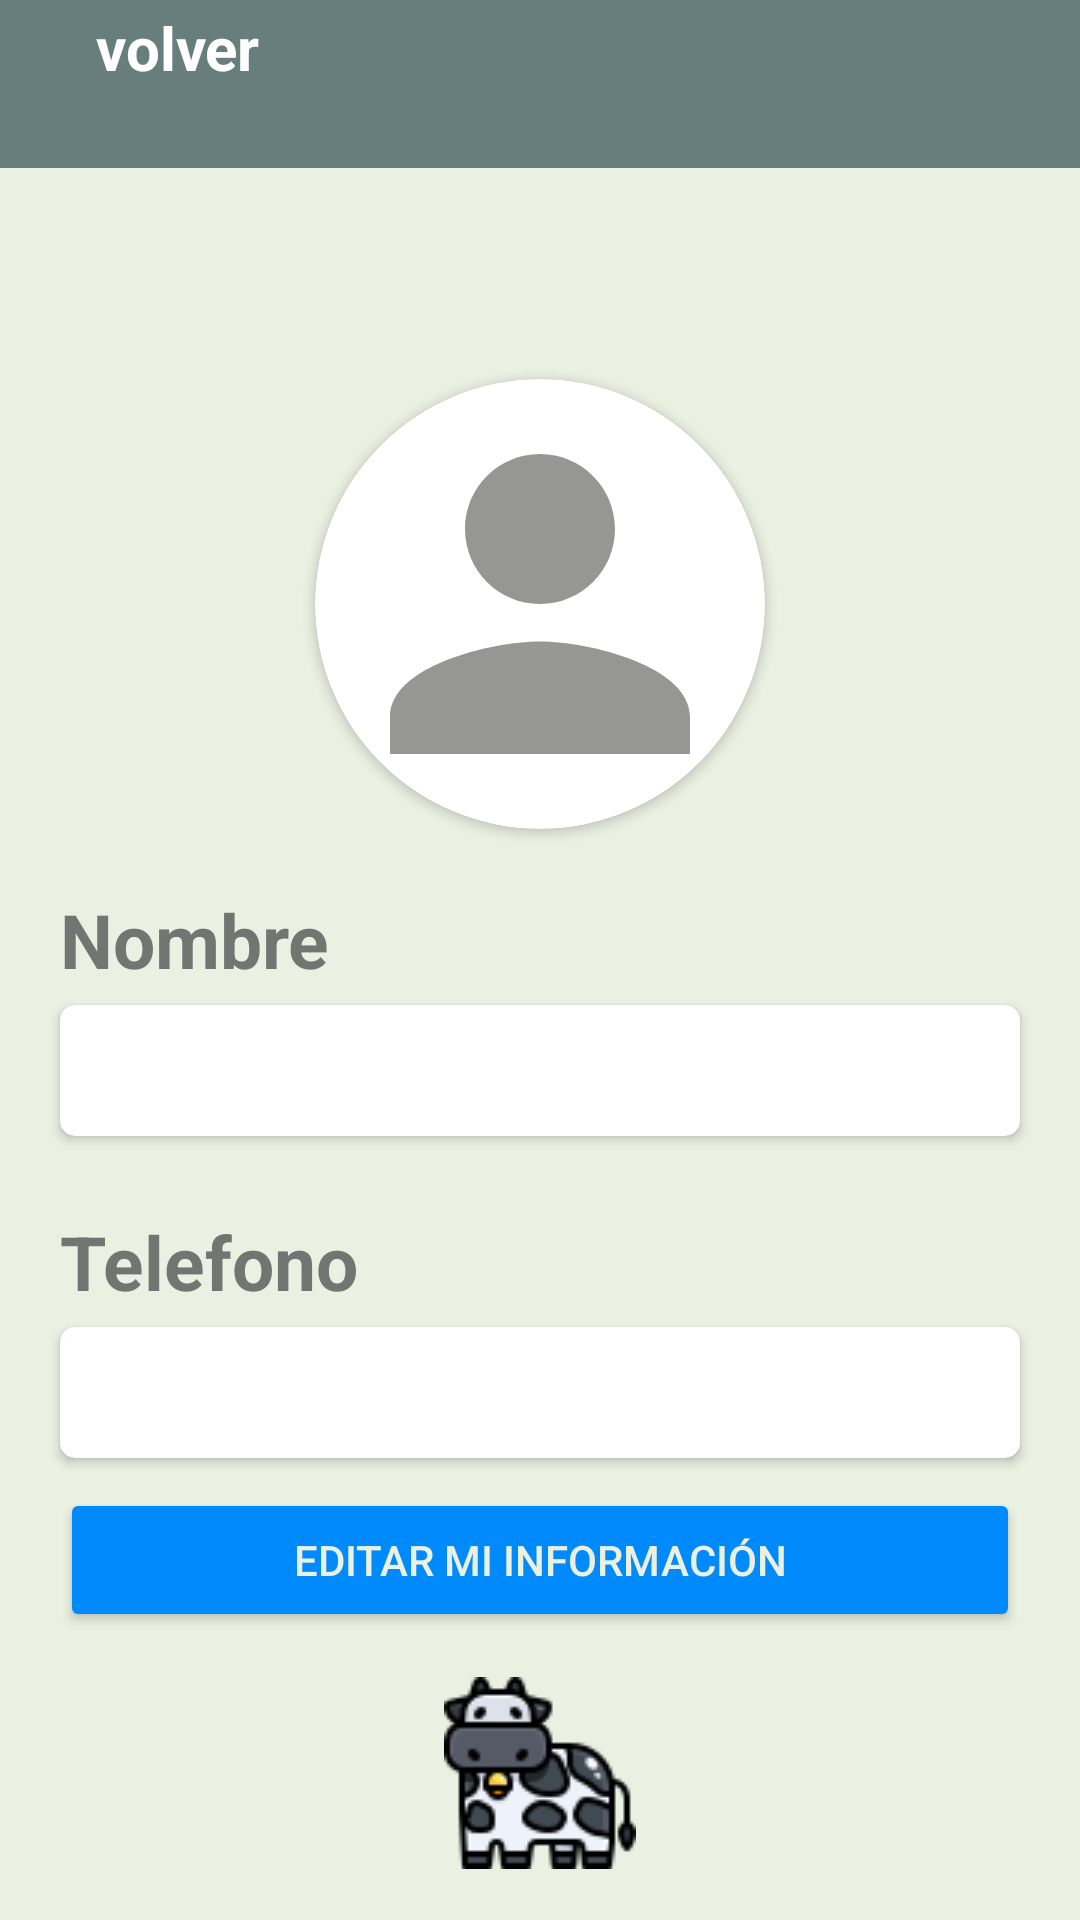

Named icons in this screenshot (1080 x 1920) and their centers, point (x, y):
cow: point (540, 1773)
